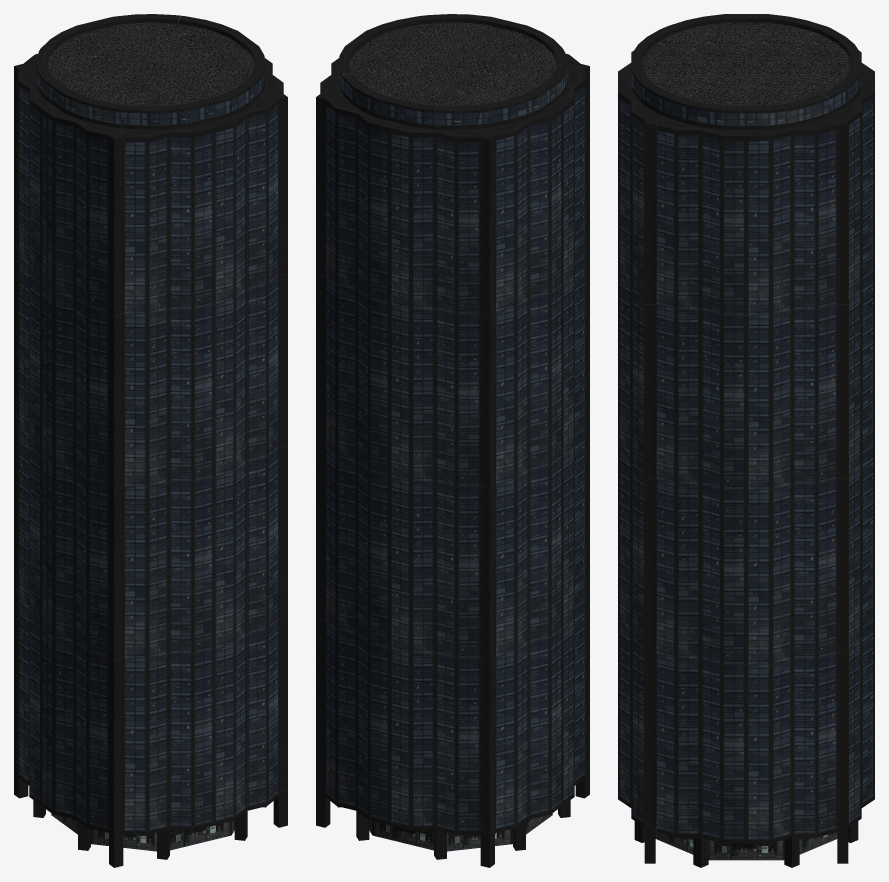
The model's file is si_building_20.fbx.
3 renders of one model, left to right at view 1: azimuth 30°, elevation 25°; view 2: azimuth 150°, elevation 25°; view 3: azimuth 270°, elevation 25°, orthographic.
Parts seen in each view (by area): view 1: si_building_20; view 2: si_building_20; view 3: si_building_20.
Part boxes in pixels (x1,y1,x2,y2): si_building_20: (14, 14, 287, 867); si_building_20: (316, 14, 589, 867); si_building_20: (618, 14, 874, 867).
Size of the model in its own units: 96 by 313 by 96.
Materials: 1 (1 with a texture image).
